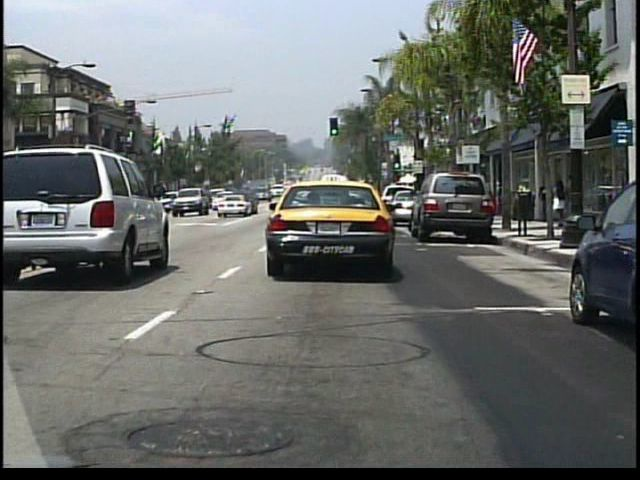person: (567, 172, 586, 228), (537, 177, 554, 226), (555, 174, 568, 226)
